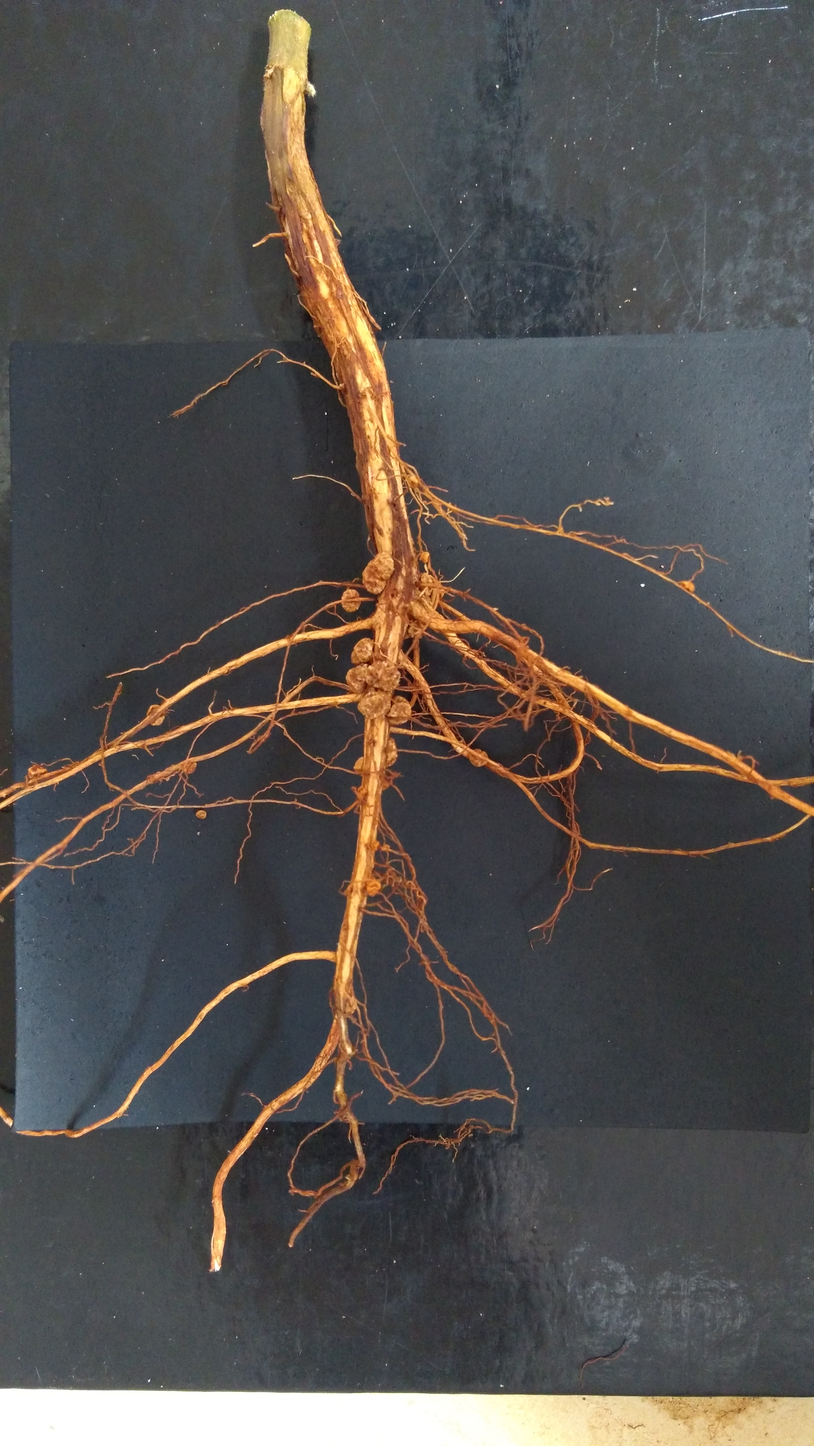nodule: (360, 550, 395, 597), (363, 660, 402, 691), (354, 691, 392, 722), (387, 694, 413, 729), (344, 663, 369, 695), (349, 636, 375, 666), (419, 571, 445, 599), (145, 702, 167, 728), (340, 589, 362, 614), (383, 735, 399, 768), (467, 748, 490, 769), (365, 878, 382, 898), (27, 764, 49, 779), (678, 578, 695, 593), (352, 755, 365, 772), (182, 761, 197, 775), (407, 475, 419, 490), (418, 551, 429, 564), (195, 809, 207, 820), (369, 839, 380, 850), (381, 843, 390, 851)
